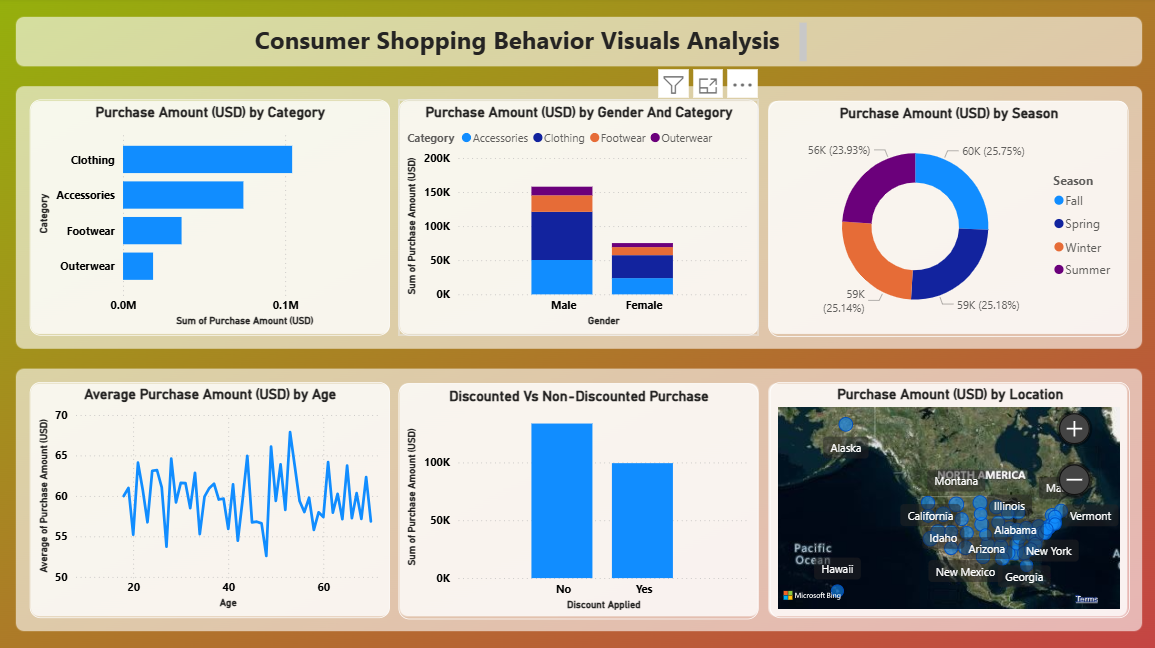

The page's visual inventory and layout, read from the dashboard file:
{"tool":"powerbi","page":{"name":"Visuals Analysis","canvas":[1280,720],"ordinal":2},"visuals":[{"type":"barChart","title":"Purchase Amount (USD) by Category","fields":{"Y":["Sum(Consumer Shopping Behavior.Purchase Amount (USD))"],"Category":["Consumer Shopping Behavior.Category"]},"box":[37.4,112.2,394.9,259.1],"z":0},{"type":"columnChart","title":"Purchase Amount (USD) by Gender And Category","fields":{"Y":["Sum(Consumer Shopping Behavior.Purchase Amount (USD))"],"Category":["Consumer Shopping Behavior.Gender"],"Series":["Consumer Shopping Behavior.Category"]},"box":[442,112.2,394.9,259.1],"z":1000},{"type":"donutChart","title":"Purchase Amount (USD) by  Season","fields":{"Y":["Sum(Consumer Shopping Behavior.Purchase Amount (USD))"],"Category":["Consumer Shopping Behavior.Season"]},"box":[848,113.6,394.9,259.1],"z":2000},{"type":"lineChart","title":"Average Purchase Amount (USD) by Age","fields":{"Y":["Avg(Consumer Shopping Behavior.Purchase Amount (USD))"],"Category":["Consumer Shopping Behavior.Age"]},"box":[37.4,422.6,394.9,259.1],"z":3000},{"type":"clusteredColumnChart","title":"Discounted Vs Non-Discounted Purchase","fields":{"Category":["Consumer Shopping Behavior.Discount Applied"],"Y":["Sum(Consumer Shopping Behavior.Purchase Amount (USD))"]},"box":[442,424,394.9,259.1],"z":4000},{"type":"map","title":"Purchase Amount (USD) by Location","fields":{"Category":["Consumer Shopping Behavior.Location"],"Size":["Sum(Consumer Shopping Behavior.Purchase Amount (USD))"]},"box":[849.4,422.6,394.9,259.1],"z":5000},{"type":"textbox","box":[257.7,23.6,637.4,56.8],"z":6000}]}

Visuals, with their boxes in screenshot pixels (x1, y1, x2, y2), scaled from the page's 1280x720 canvas onto the 1155x648 screenshot:
"Purchase Amount (USD) by Category" barChart: [x1=34, y1=101, x2=390, y2=334]
"Purchase Amount (USD) by Gender And Category" columnChart: [x1=399, y1=101, x2=755, y2=334]
"Purchase Amount (USD) by  Season" donutChart: [x1=765, y1=102, x2=1122, y2=335]
"Average Purchase Amount (USD) by Age" lineChart: [x1=34, y1=380, x2=390, y2=614]
"Discounted Vs Non-Discounted Purchase" clusteredColumnChart: [x1=399, y1=382, x2=755, y2=615]
"Purchase Amount (USD) by Location" map: [x1=766, y1=380, x2=1123, y2=614]
textbox: [x1=233, y1=21, x2=808, y2=72]
